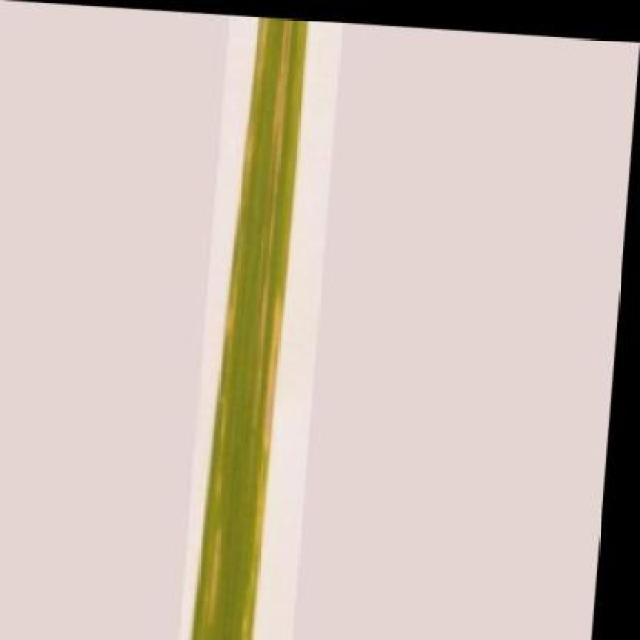Brown_Spot: (194, 12, 314, 640)
